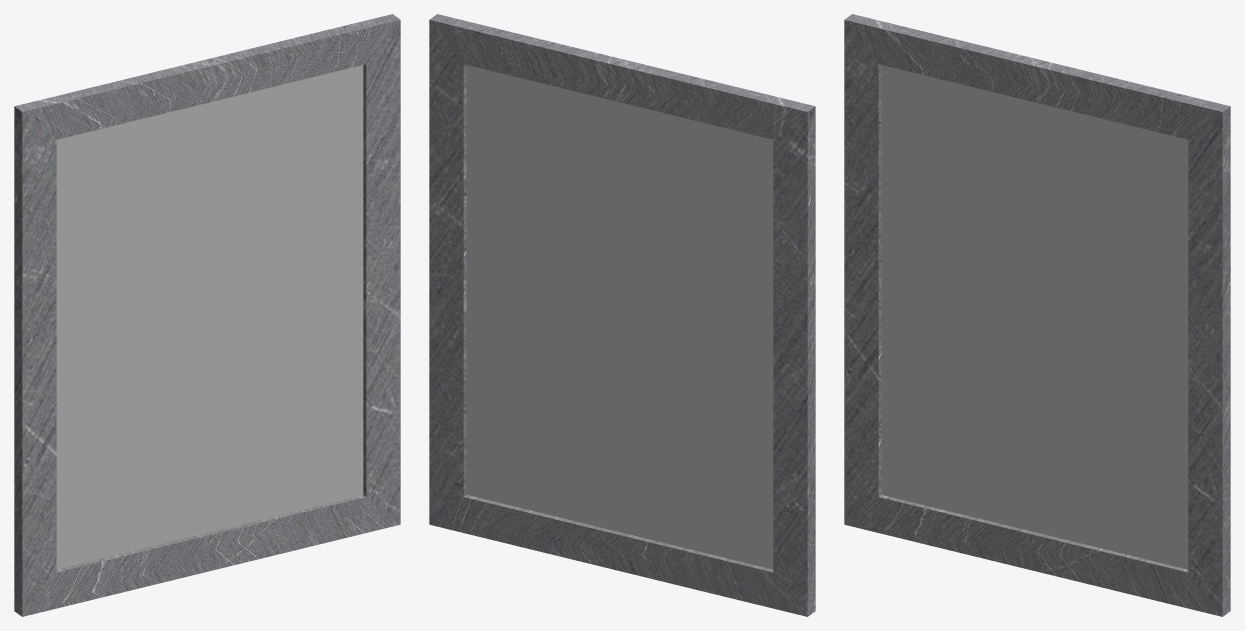
File: simple small window silver.fbx
The picture shows the model from 3 angles, left to right: view 1: azimuth 30°, elevation 25°; view 2: azimuth 150°, elevation 25°; view 3: azimuth 330°, elevation 25°; orthographic projection.
Parts seen in each view (by area): view 1: glass, frame; view 2: glass, frame; view 3: glass, frame.
Part boxes in pixels (x1,y1,x2,y2): glass: (56,65,363,569); frame: (14,14,400,616); glass: (466,65,773,569); frame: (429,14,815,616); glass: (881,65,1188,569); frame: (844,14,1230,616).
Bounding box in the file's own units: 110 × 140 × 4.
